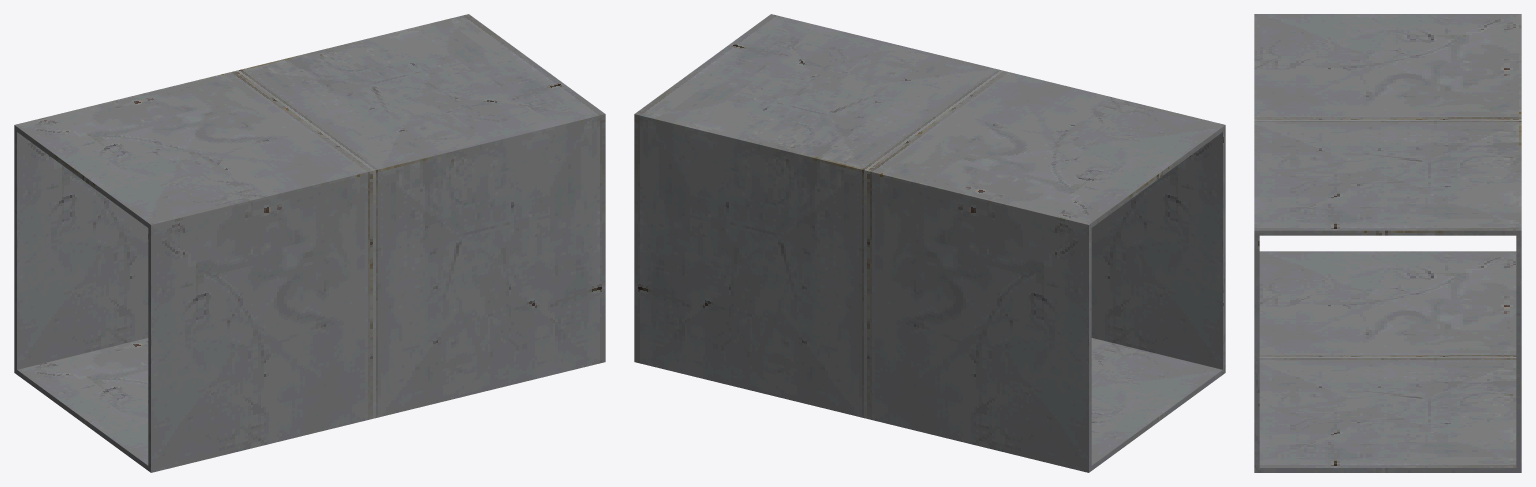
The model's file is duct_long.glb.
The picture shows the model from 3 angles, left to right: view 1: azimuth 30°, elevation 25°; view 2: azimuth 150°, elevation 25°; view 3: azimuth 270°, elevation 25°; orthographic projection. The views are drawn at different scales.
Parts seen in each view (by area): view 1: duct_long; view 2: duct_long; view 3: duct_long.
Part boxes in pixels (x1,y1,x2,y2): duct_long: (14, 14, 605, 472); duct_long: (634, 14, 1225, 472); duct_long: (1254, 14, 1521, 472).
Size of the model in its own units: 2 by 1.04 by 1.04.
Materials: 1 (1 with a texture image).
